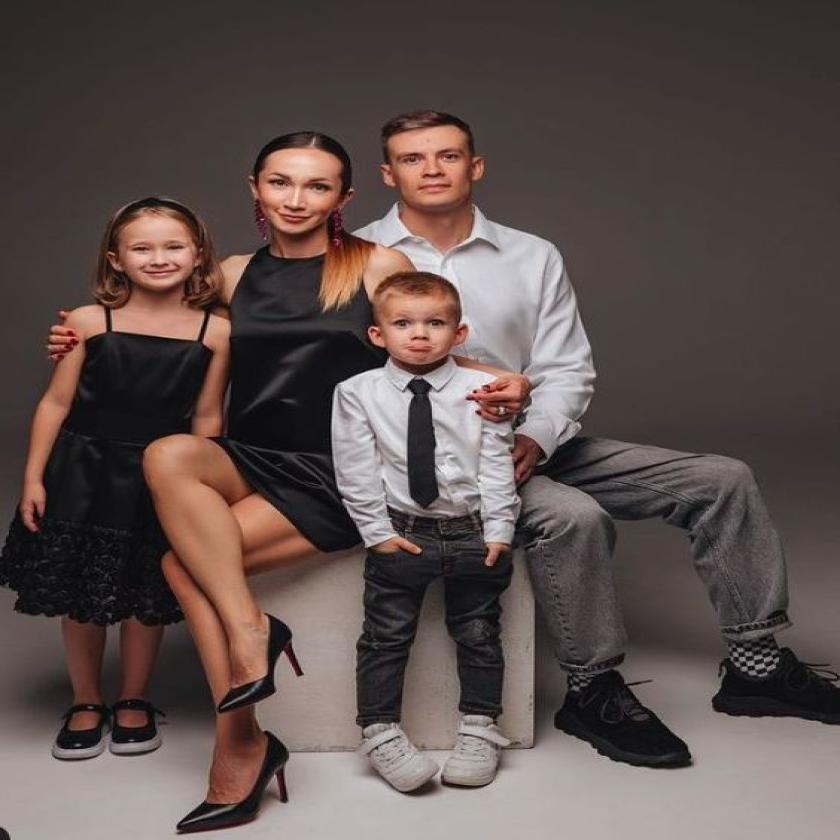Sin_casco: (251, 130, 356, 256), (99, 193, 207, 307), (377, 107, 480, 226), (369, 264, 468, 370)
